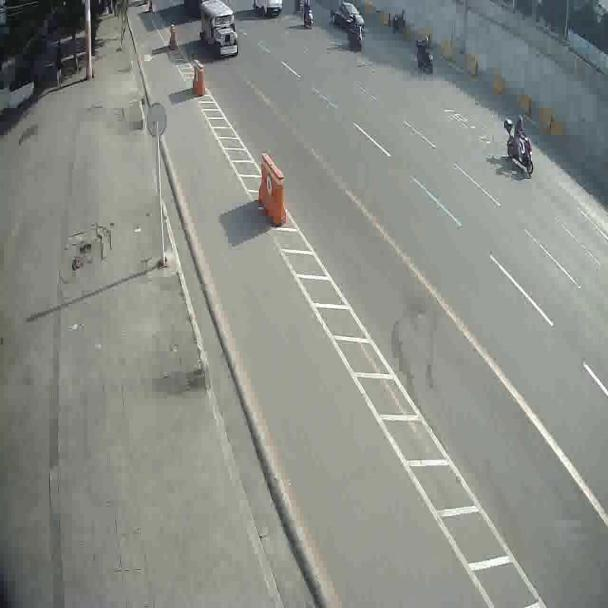motorcyclist: (501, 113, 537, 184), (344, 13, 367, 58), (414, 28, 435, 77)
vehicle: (196, 0, 242, 62), (328, 1, 370, 32)
